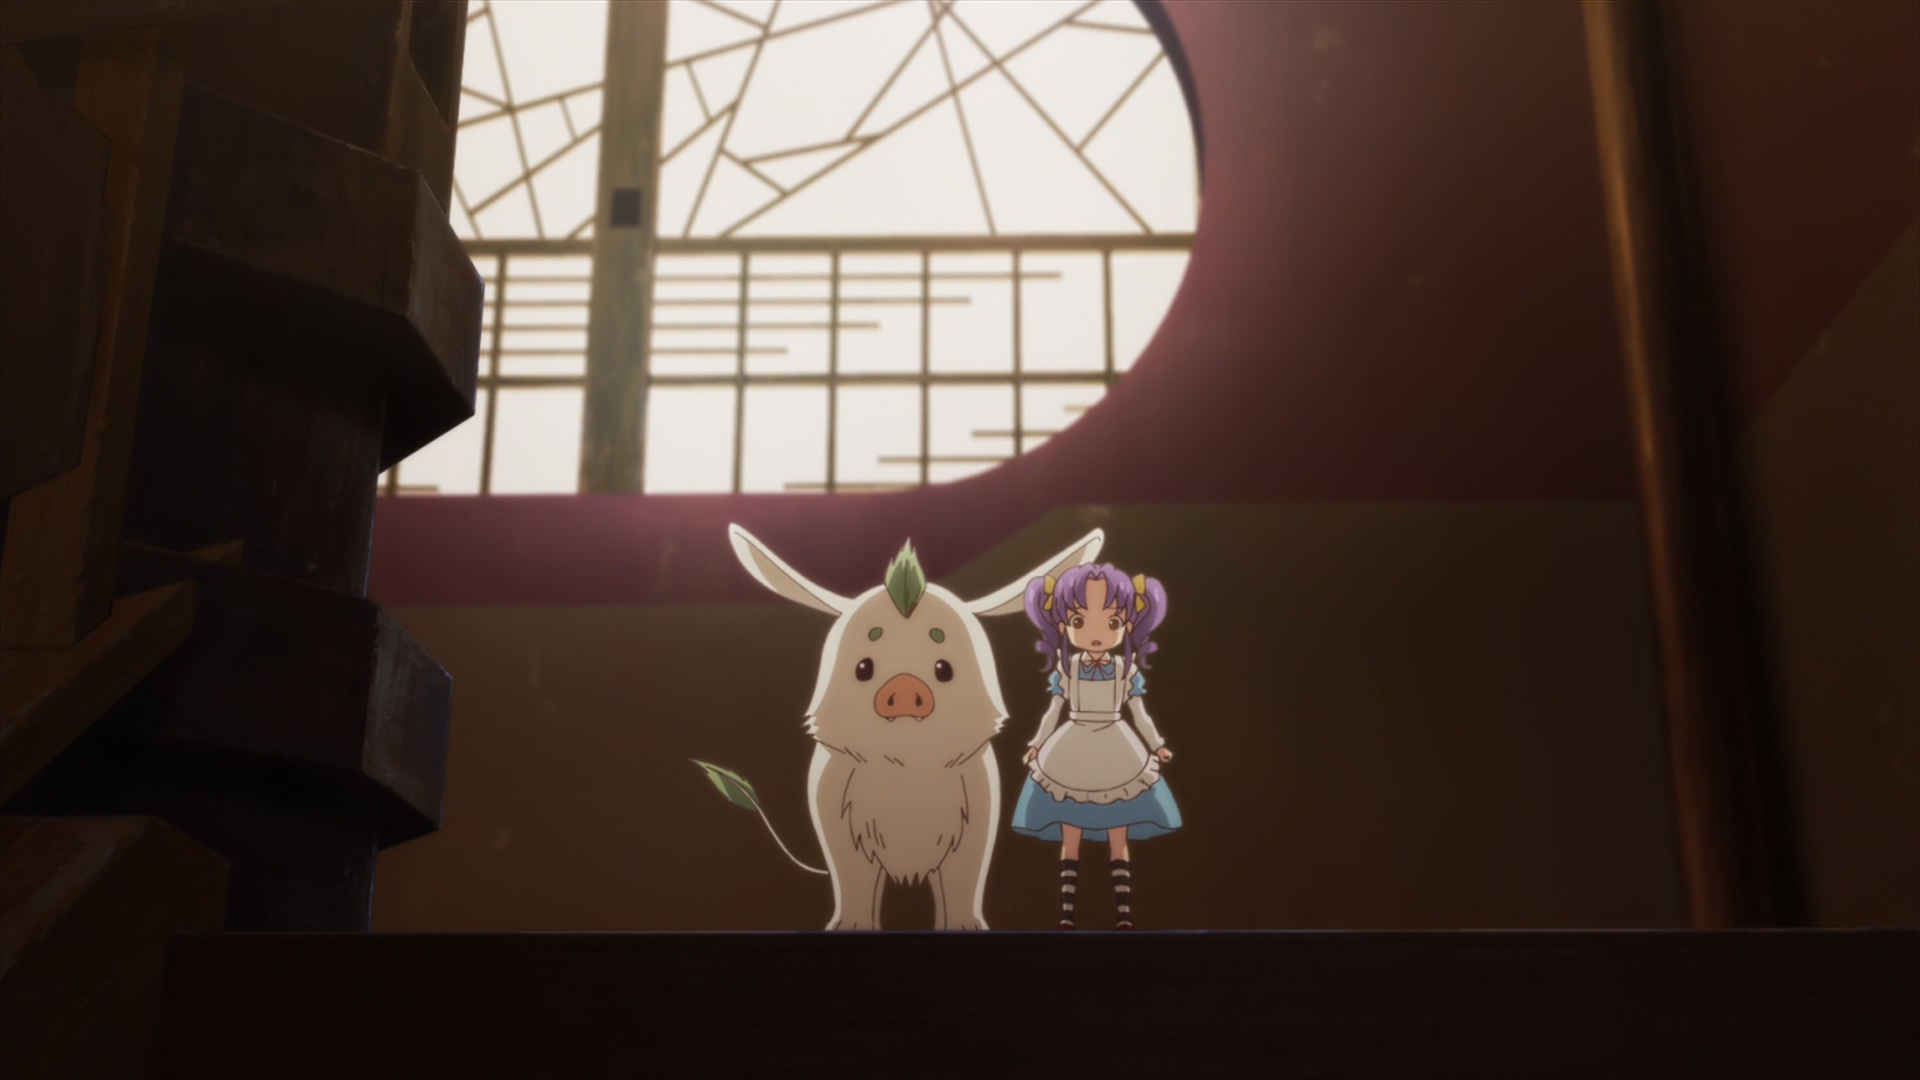瓜之介: (688, 524, 1106, 930)
阿菊: (1013, 563, 1183, 930)
